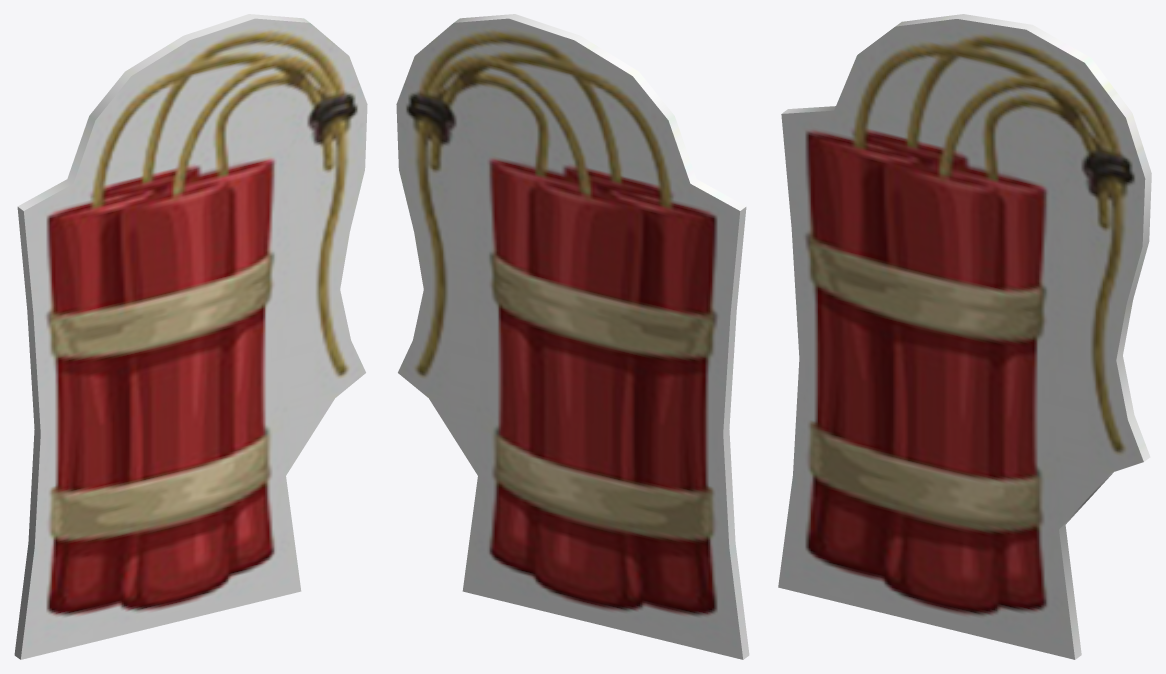
The model's file is TNT.fbx.
The picture shows the model from 3 angles, left to right: view 1: azimuth 30°, elevation 25°; view 2: azimuth 150°, elevation 25°; view 3: azimuth 330°, elevation 25°; orthographic projection. The views are drawn at different scales.
Visible parts, largest first — view 1: TNT; view 2: TNT; view 3: TNT.
Boxes of the visible parts, x1=… form: TNT: x1=14, y1=14, x2=367, y2=659; TNT: x1=396, y1=14, x2=749, y2=659; TNT: x1=778, y1=14, x2=1151, y2=659.
Size of the model in its own units: 0.1598 by 0.2573 by 0.005.
